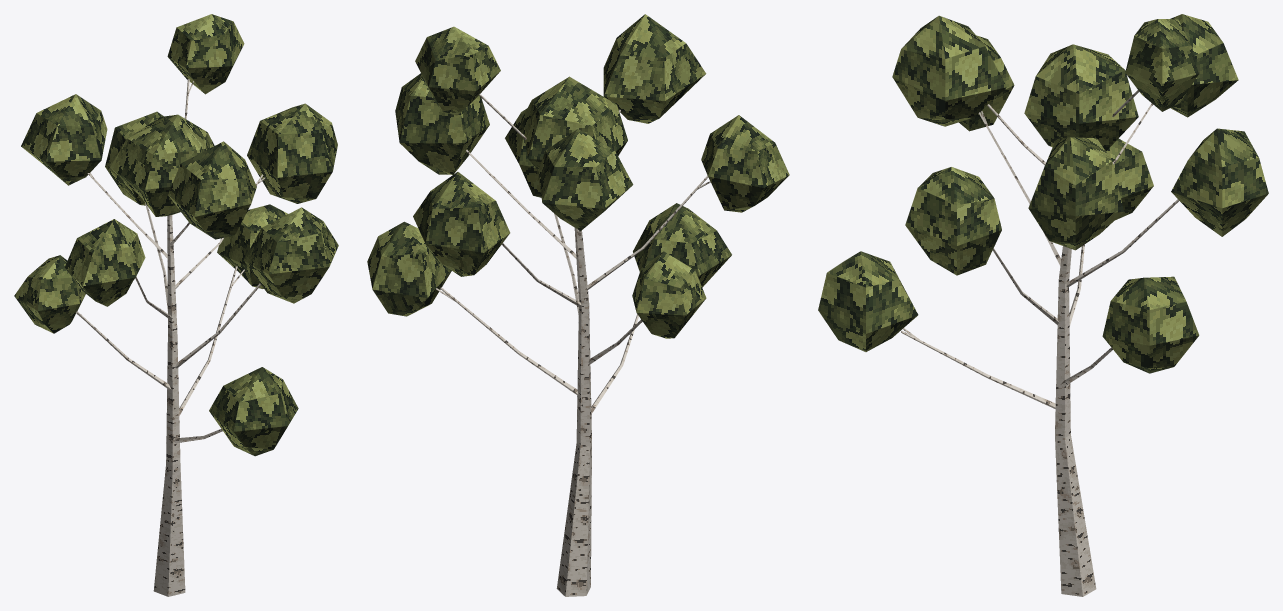
The model's file is TREE_Birch_Green_A_LOD2.glb.
3 views of the same model, side by side, from view 1: azimuth 30°, elevation 25°; view 2: azimuth 150°, elevation 25°; view 3: azimuth 270°, elevation 25° (orthographic). The views are drawn at different scales.
Parts seen in each view (by area): view 1: TREE_Birch_Green_A_LOD2__Foliage, TREE_Birch_Green_A_LOD2__Bark; view 2: TREE_Birch_Green_A_LOD2__Foliage, TREE_Birch_Green_A_LOD2__Bark; view 3: TREE_Birch_Green_A_LOD2__Foliage, TREE_Birch_Green_A_LOD2__Bark.
Part boxes in pixels (bbox=[...]): TREE_Birch_Green_A_LOD2__Foliage: bbox=[14, 14, 338, 456]; TREE_Birch_Green_A_LOD2__Bark: bbox=[76, 79, 265, 596]; TREE_Birch_Green_A_LOD2__Foliage: bbox=[367, 14, 789, 338]; TREE_Birch_Green_A_LOD2__Bark: bbox=[436, 94, 710, 596]; TREE_Birch_Green_A_LOD2__Foliage: bbox=[818, 14, 1268, 373]; TREE_Birch_Green_A_LOD2__Bark: bbox=[901, 90, 1179, 596].
Bounding box in the file's own units: 7.06 × 11.53 × 7.68.
Materials: 2 (2 with a texture image).
